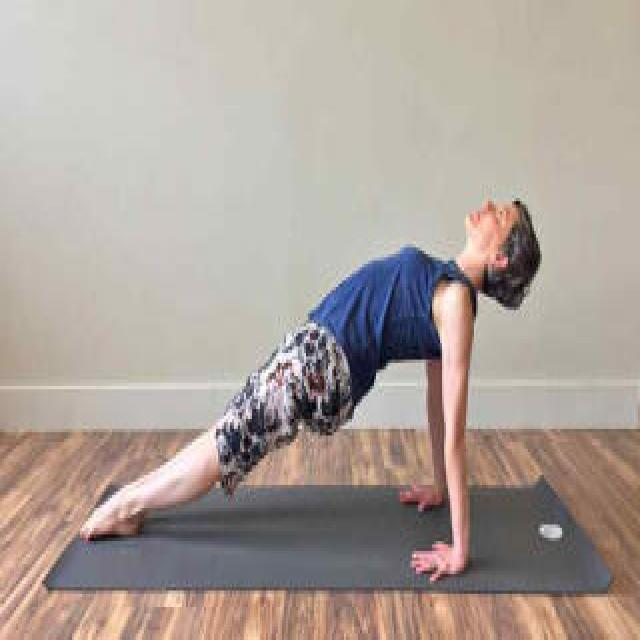yoga-pose plank: (80, 183, 542, 571)
